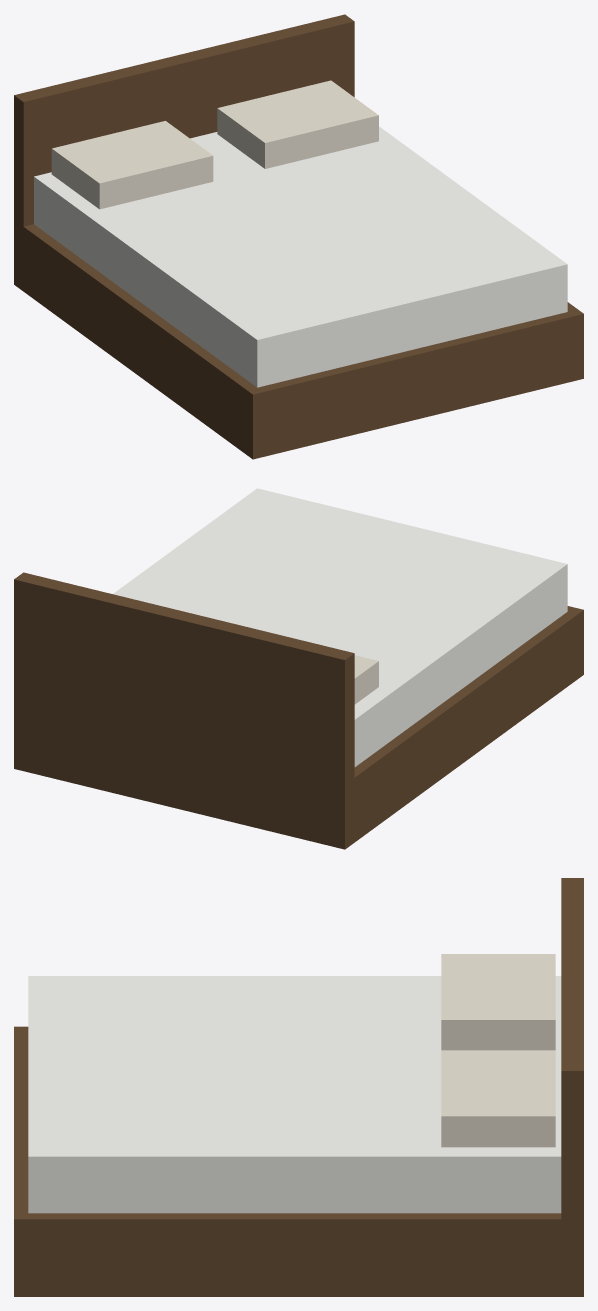
File: bed.gltf
3 renders of one model, top to bottom at view 1: azimuth 30°, elevation 25°; view 2: azimuth 150°, elevation 25°; view 3: azimuth 270°, elevation 25°, orthographic. The views are drawn at different scales.
Size of the model in its own units: 1.6 by 0.875 by 2.
